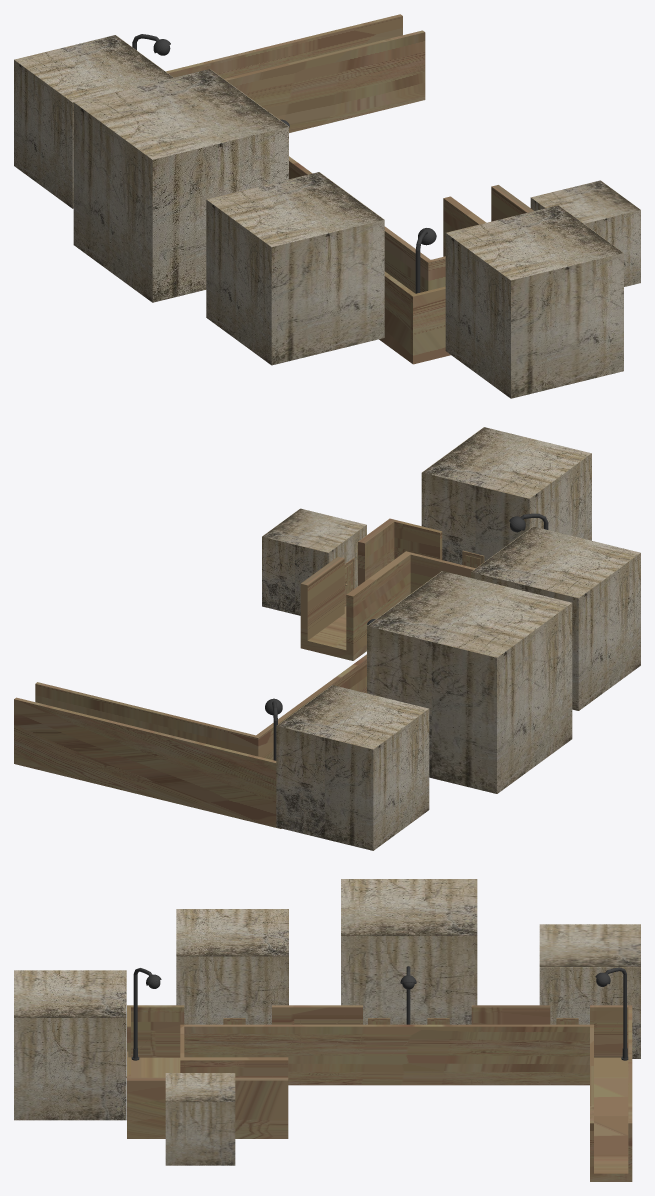
The model's file is Rue.fbx.
3 views of the same model, one above another, from view 1: azimuth 30°, elevation 25°; view 2: azimuth 150°, elevation 25°; view 3: azimuth 270°, elevation 25° (orthographic). The views are drawn at different scales.
Parts seen in each view (by area): view 1: Rue LOW; view 2: Rue LOW; view 3: Rue LOW.
Part boxes in pixels (bbox=[...]): Rue LOW: bbox=[14, 14, 640, 398]; Rue LOW: bbox=[14, 427, 640, 850]; Rue LOW: bbox=[14, 879, 640, 1181].
Size of the model in its own units: 3153 by 1064 by 4758.
